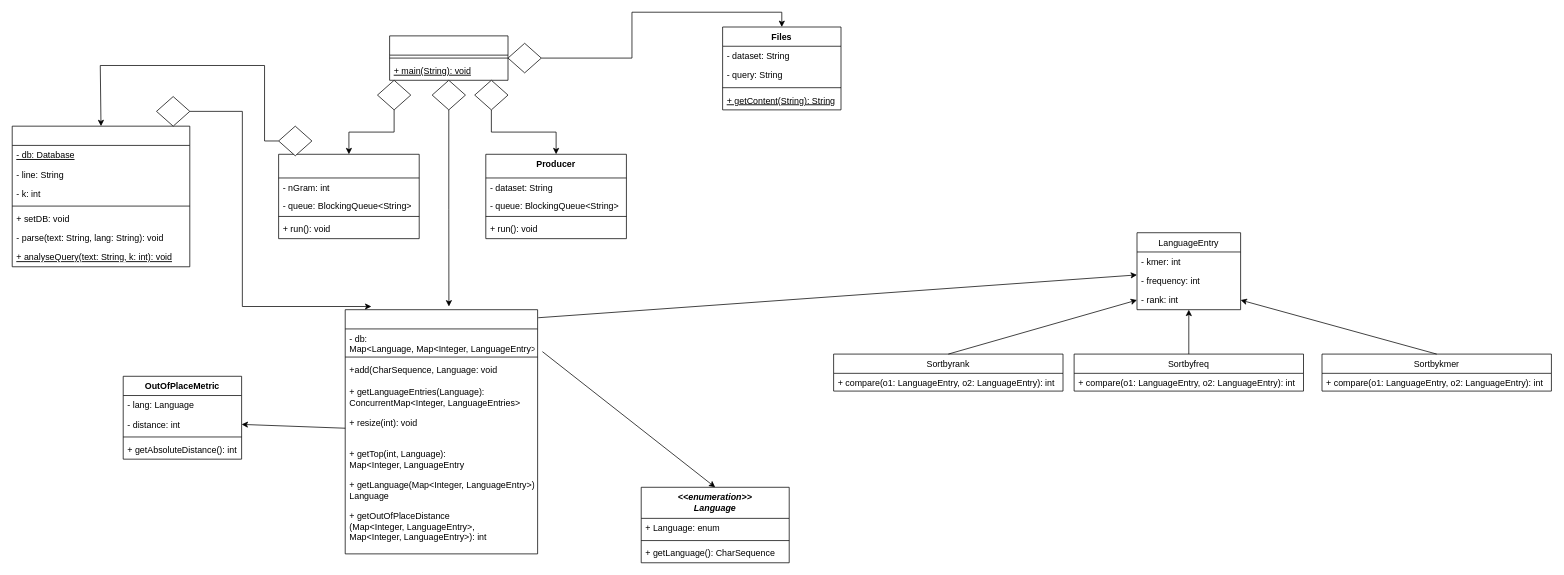
The diagram is 1564 pixels wide and 575 high, and some of its shapes have lost their labels. Here are the shapes that lost their labels. From the top down, the box of each, then its label:
(389, 35, 508, 80): Runner
(11, 125, 190, 267): Parser
(278, 154, 419, 239): Consumer
(344, 309, 538, 554): Database
